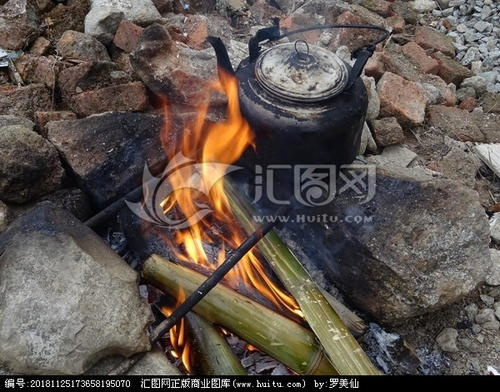fire: (151, 61, 280, 308)
